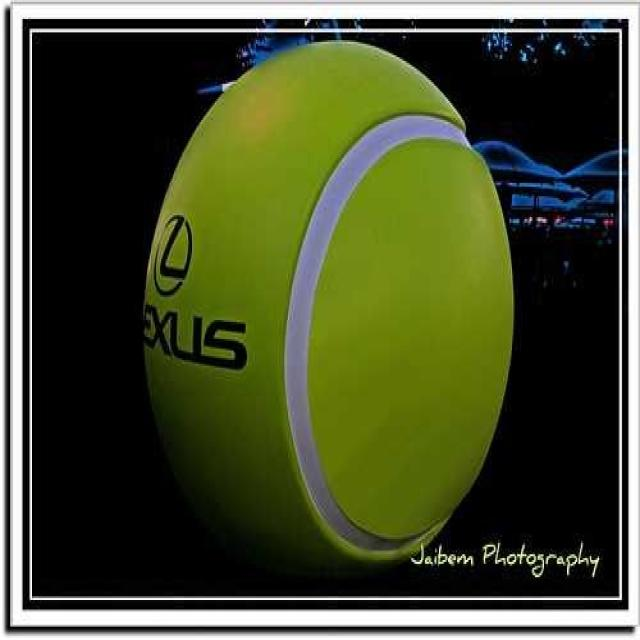Tennis_Ball: (149, 45, 512, 578)
